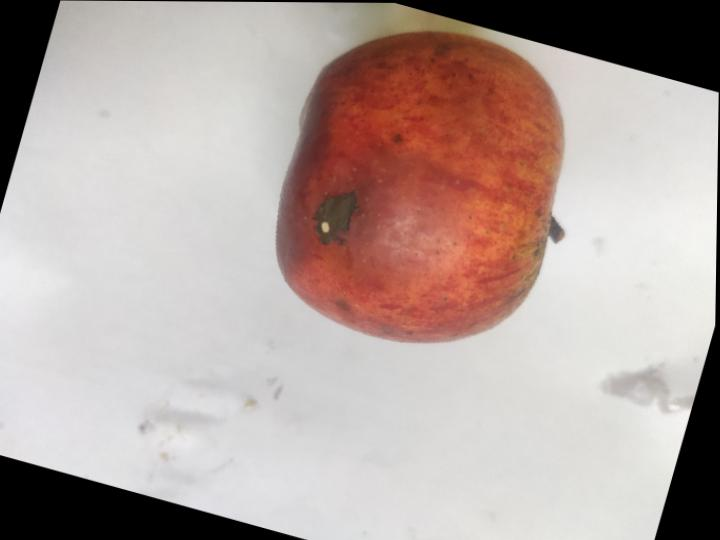apple: (276, 32, 563, 342)
bruise_discoloration: (435, 79, 563, 302)
rot_mold_decay: (313, 190, 357, 245)
